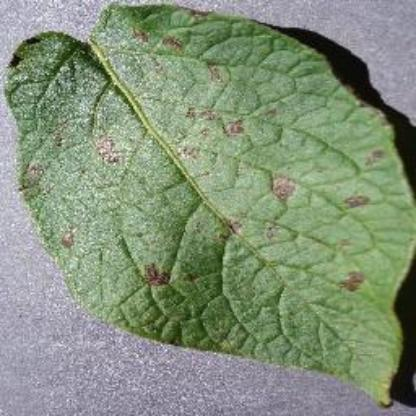Early-Blight: (13, 6, 407, 404)
